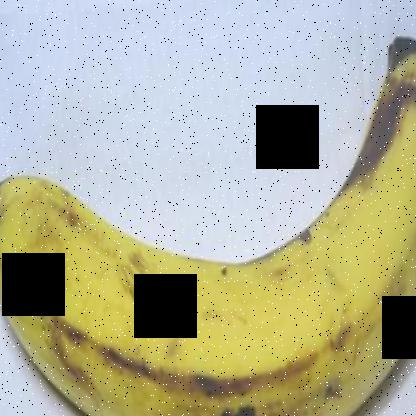ripe: (0, 32, 415, 415)
